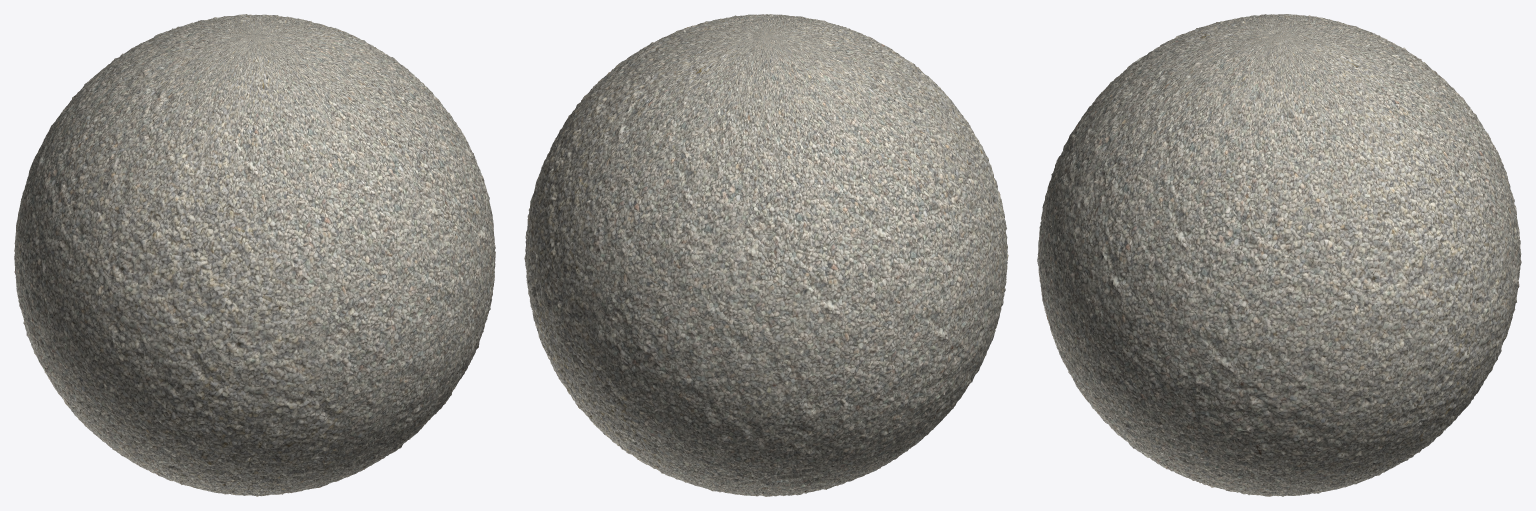
File: gravel_floor_02_1k.gltf
The picture shows the model from 3 angles, left to right: view 1: azimuth 30°, elevation 25°; view 2: azimuth 150°, elevation 25°; view 3: azimuth 270°, elevation 25°; orthographic projection.
Parts seen in each view (by area): view 1: sphere_gltf; view 2: sphere_gltf; view 3: sphere_gltf.
Part boxes in pixels (x1,y1,x2,y2): sphere_gltf: [14, 14, 495, 496]; sphere_gltf: [524, 14, 1008, 496]; sphere_gltf: [1037, 14, 1521, 496].
Bounding box in the file's own units: 2.03 × 2.03 × 2.04.
1 material, 1 textured.
